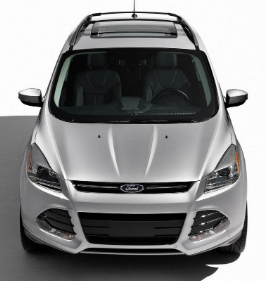car: (13, 11, 255, 267)
